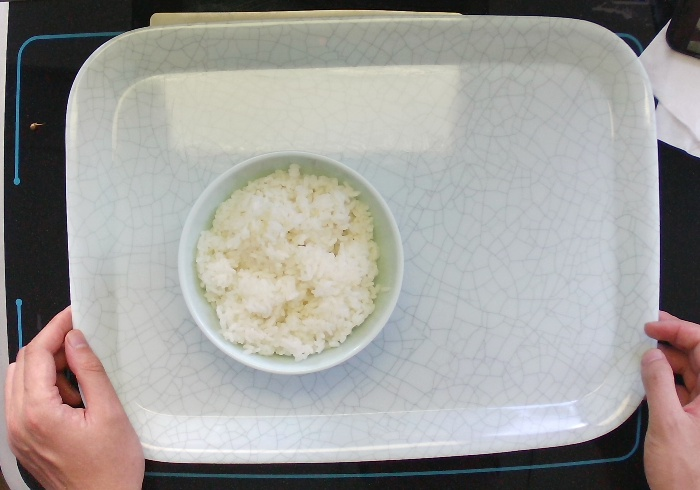JYsf-Fan_Wan: (175, 148, 406, 378)
